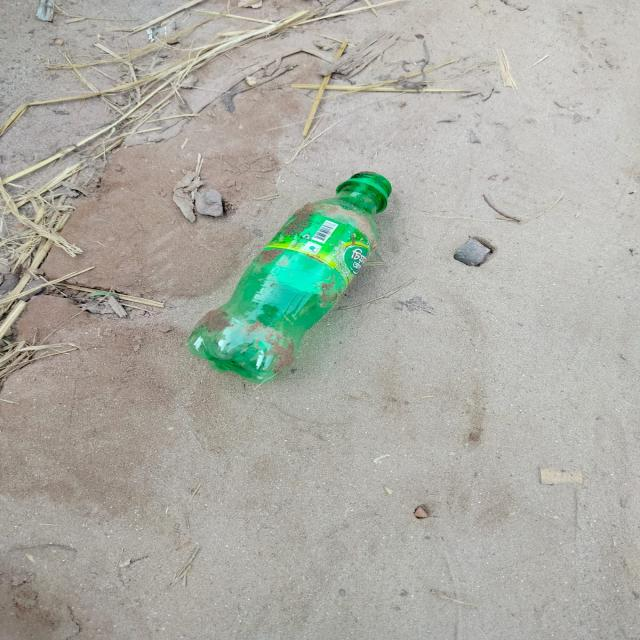plastic: (194, 170, 396, 383)
